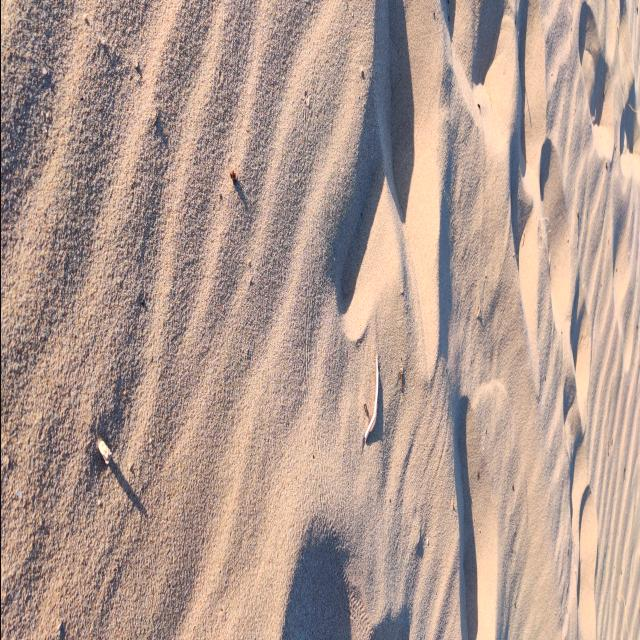Plastic straw: (363, 354, 378, 441)
